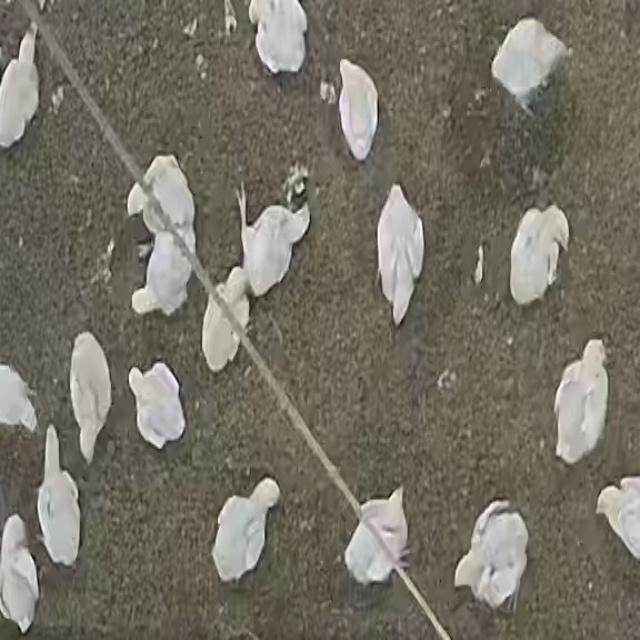chicken: (454, 500, 529, 615), (239, 193, 311, 298), (212, 480, 281, 584), (554, 339, 610, 462), (376, 184, 424, 325), (128, 154, 197, 251), (345, 486, 409, 586), (492, 26, 568, 110), (37, 430, 82, 565), (510, 206, 570, 305), (69, 334, 112, 462), (201, 271, 253, 373), (132, 233, 192, 318), (0, 25, 40, 149), (129, 361, 184, 450), (0, 514, 41, 632), (248, 1, 308, 74), (597, 478, 640, 566), (338, 61, 374, 163), (1, 363, 39, 434)
